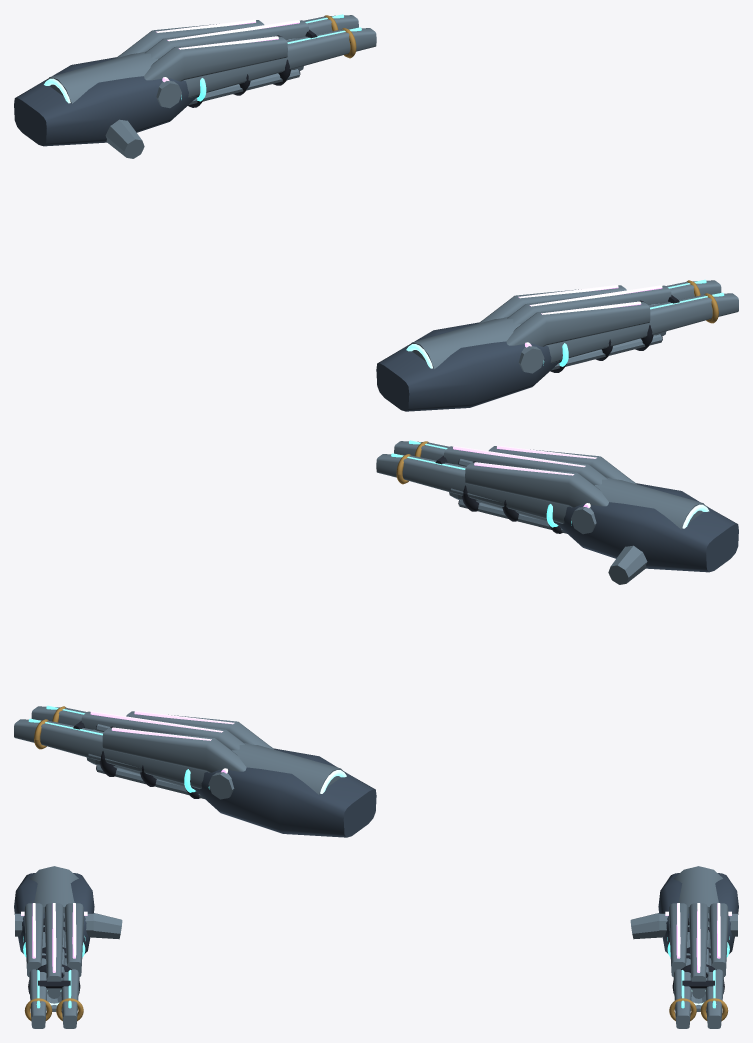
File: mount.glb
3 renders of one model, top to bottom at view 1: azimuth 30°, elevation 25°; view 2: azimuth 150°, elevation 25°; view 3: azimuth 270°, elevation 25°, orthographic. The views are drawn at different scales.
Parts seen in each view (by area): view 1: m_heavy Fitting gunmetal, m_array Brushed fitting edges, m_siege Brushed fitting edges, m_rotary Brushed fitting edges, m_array m_array emitter, m_heavy Brushed fitting edges, m_siege m_siege emitter, m_rotary Machined graphite; view 2: m_heavy Fitting gunmetal, m_array Brushed fitting edges, m_siege Brushed fitting edges, m_rotary Brushed fitting edges, m_array m_array emitter, m_heavy Brushed fitting edges, m_siege m_siege emitter, m_rotary Machined graphite; view 3: m_array Brushed fitting edges, m_siege Brushed fitting edges, m_rotary Brushed fitting edges, m_heavy Fitting gunmetal, m_heavy Brushed fitting edges, m_array m_array emitter, m_siege Champagne gold edging, m_siege m_siege emitter, m_siege Machined graphite, m_rotary Machined graphite.
Part boxes in pixels (box(x1,y1,x2,y2)): m_heavy Fitting gunmetal: box(14, 57, 559, 411); m_array Brushed fitting edges: box(116, 20, 671, 373); m_siege Brushed fitting edges: box(184, 15, 738, 363); m_rotary Brushed fitting edges: box(44, 51, 662, 370); m_array m_array emitter: box(156, 19, 662, 347); m_heavy Brushed fitting edges: box(105, 38, 666, 336); m_siege m_siege emitter: box(181, 14, 724, 366); m_rotary Machined graphite: box(233, 35, 662, 360); m_heavy Fitting gunmetal: box(193, 483, 738, 837); m_array Brushed fitting edges: box(81, 446, 636, 799); m_siege Brushed fitting edges: box(14, 441, 569, 788); m_rotary Brushed fitting edges: box(88, 459, 708, 798); m_array m_array emitter: box(90, 445, 596, 773); m_heavy Brushed fitting edges: box(86, 464, 647, 787); m_siege m_siege emitter: box(28, 440, 571, 792); m_rotary Machined graphite: box(96, 459, 518, 786); m_array Brushed fitting edges: box(15, 903, 737, 991); m_siege Brushed fitting edges: box(29, 925, 723, 1028); m_rotary Brushed fitting edges: box(29, 866, 723, 998); m_heavy Fitting gunmetal: box(14, 873, 738, 953); m_heavy Brushed fitting edges: box(46, 913, 706, 1011); m_array m_array emitter: box(21, 903, 731, 972); m_siege Champagne gold edging: box(24, 998, 728, 1021); m_siege m_siege emitter: box(23, 936, 729, 1008); m_siege Machined graphite: box(38, 955, 714, 988); m_rotary Machined graphite: box(28, 947, 724, 1012).
Bounding box in the file's own units: 17 × 3.72 × 36.
